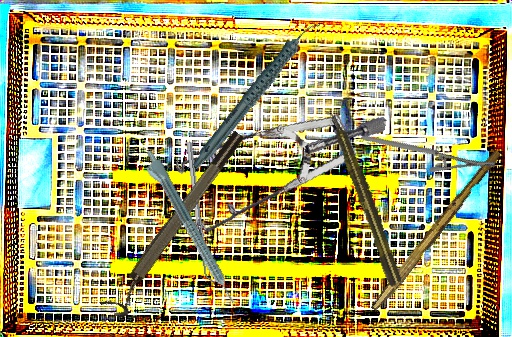Fixation Ring: (99, 128, 255, 321)
Handpiece: (167, 19, 346, 170), (137, 148, 239, 310), (324, 106, 405, 289)
Needle Holder: (360, 96, 498, 205)
Scalpel Handle: (370, 146, 503, 316)
Spatula Surgical: (186, 140, 215, 285)
Speculum: (161, 77, 388, 271)
